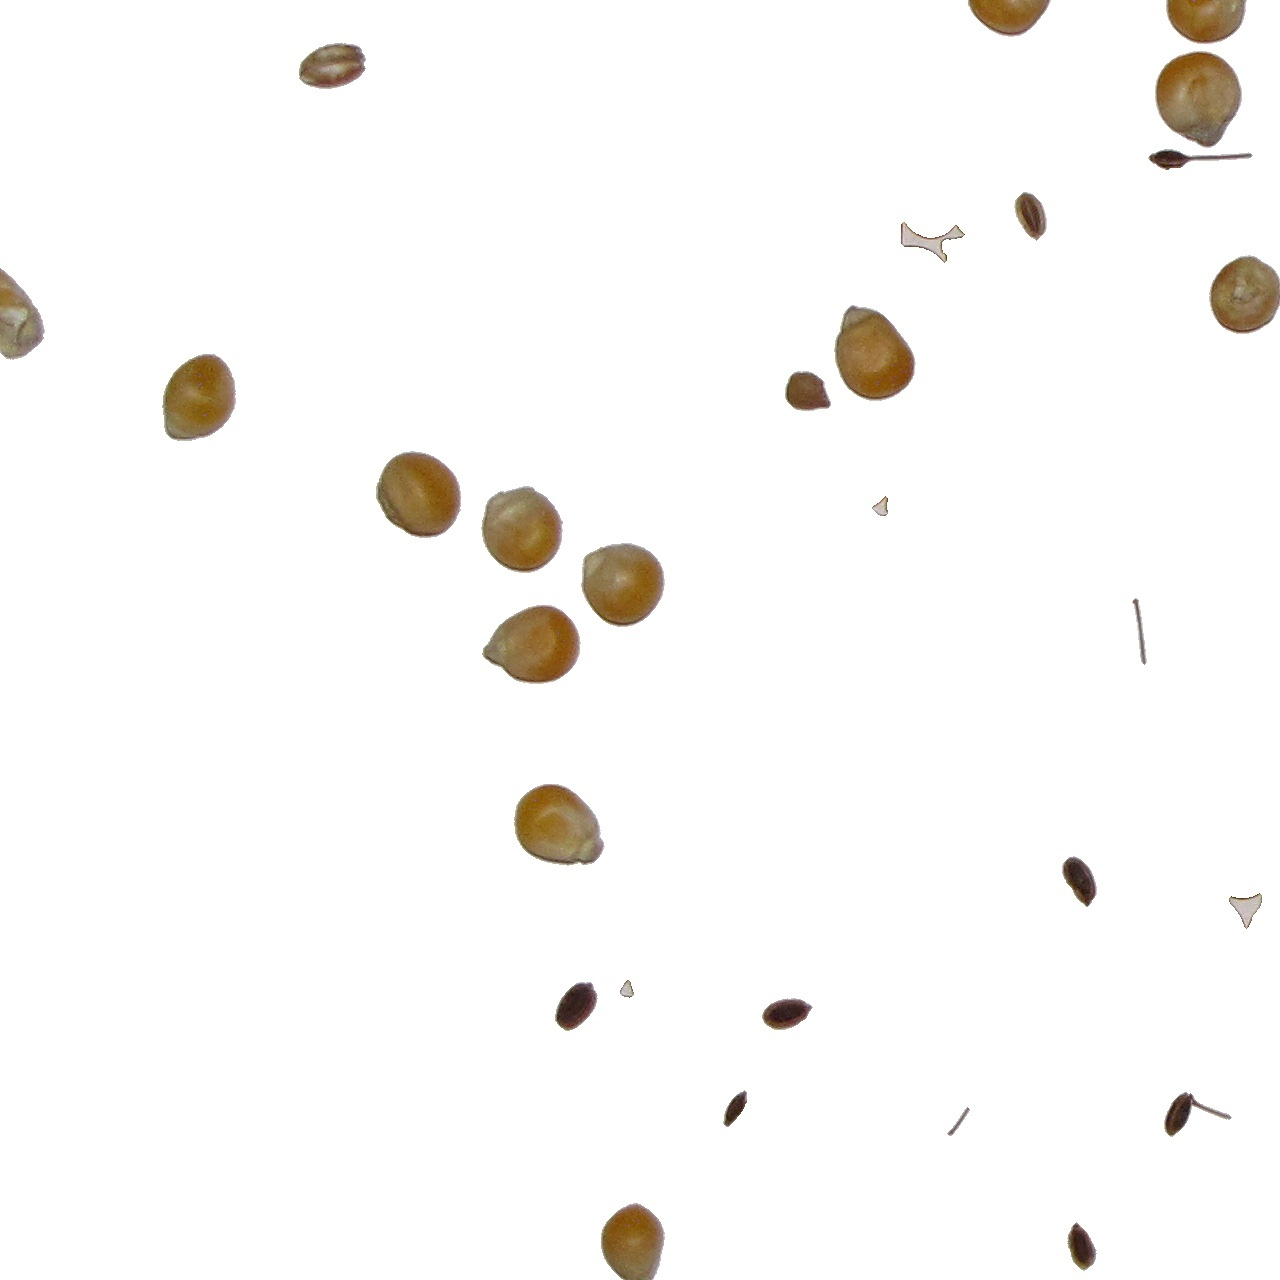buckwheat: (554, 981, 599, 1032), (1061, 855, 1098, 908), (761, 998, 813, 1032), (1065, 1224, 1098, 1275), (726, 1091, 753, 1141), (1228, 892, 1262, 930), (1131, 597, 1148, 666), (946, 1107, 971, 1137), (871, 495, 888, 517), (619, 979, 635, 999)
dill: (1163, 1091, 1233, 1138), (894, 222, 960, 264), (1013, 191, 1048, 241)
mais: (1155, 50, 1242, 149), (481, 604, 583, 685), (833, 304, 917, 402), (513, 783, 606, 867), (375, 450, 462, 539), (580, 542, 666, 628), (481, 485, 564, 574), (161, 353, 237, 442), (1208, 254, 1280, 335), (600, 1201, 666, 1280), (1, 271, 43, 361)
other: (306, 42, 367, 91), (1148, 148, 1254, 171), (784, 370, 832, 411)
